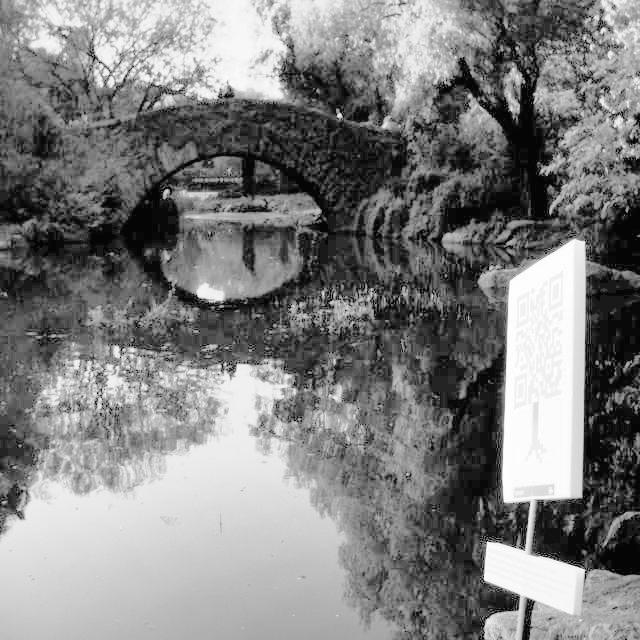qr_code: (514, 272, 563, 409)
